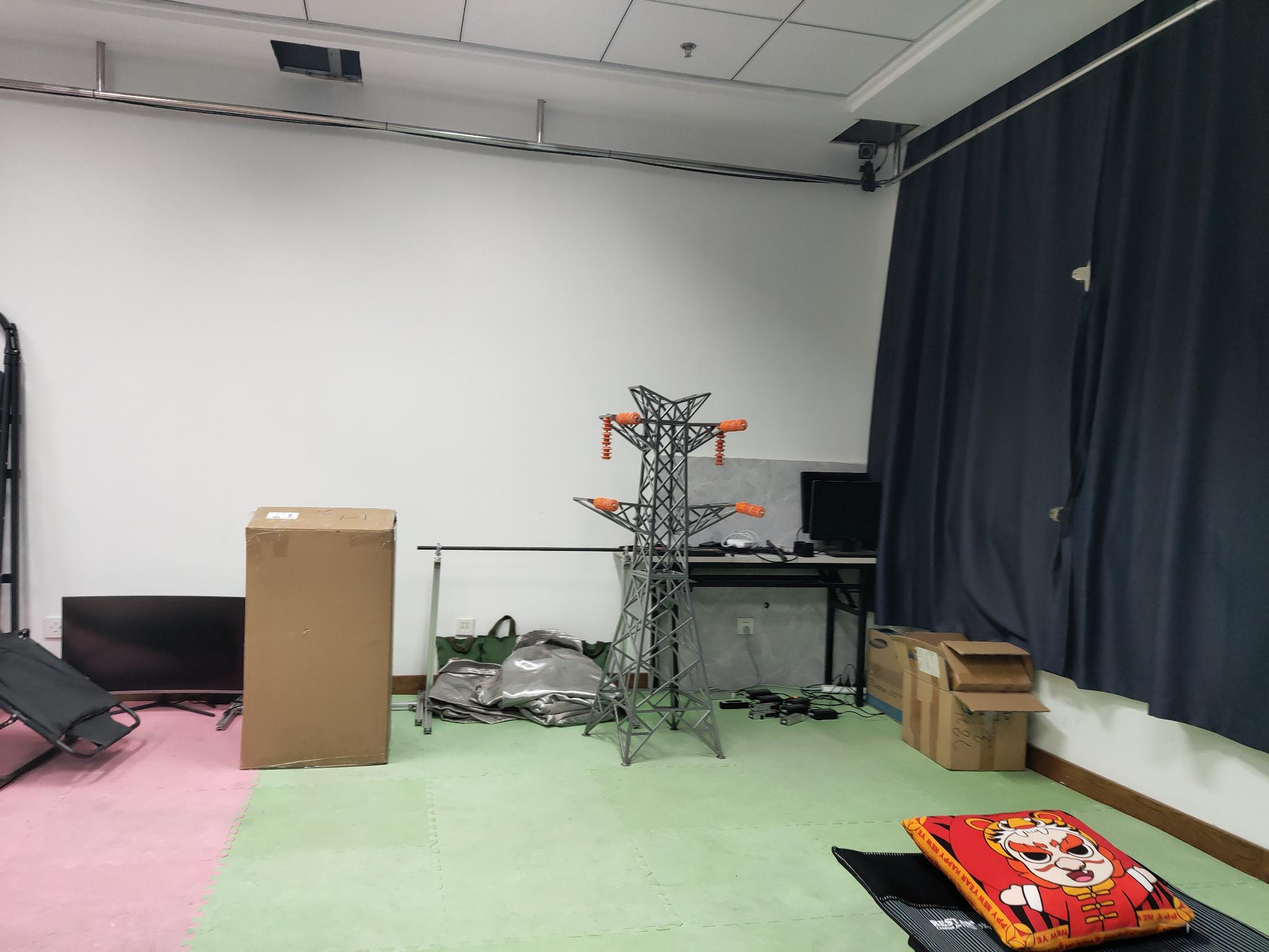tower: (573, 383, 730, 765)
